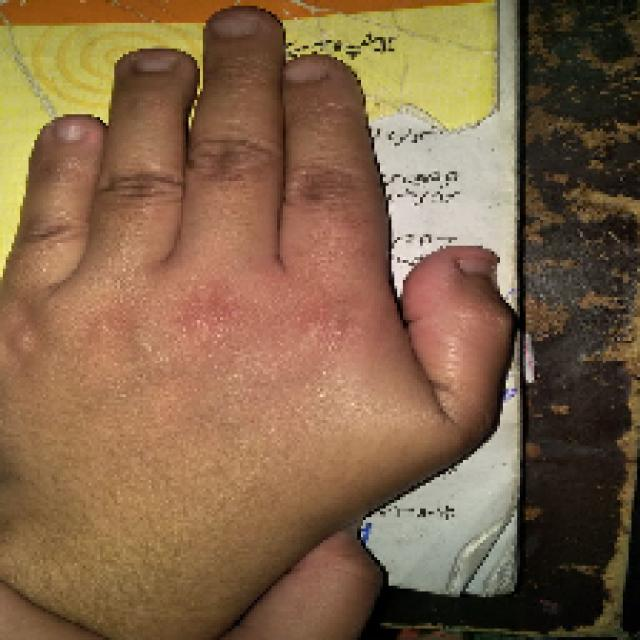Nail: (208, 10, 260, 38), (284, 58, 328, 84), (456, 249, 492, 277), (134, 50, 179, 72), (55, 116, 90, 142)
